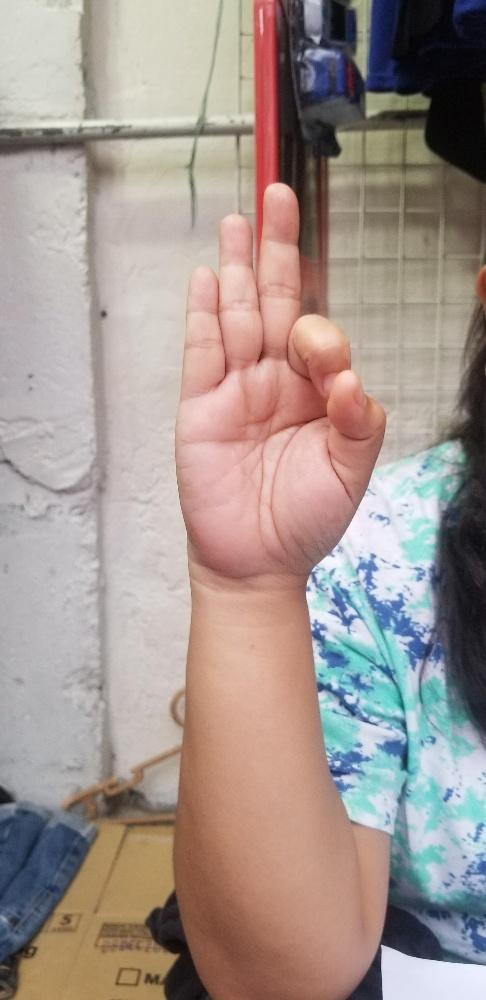f: (173, 182, 383, 577)
